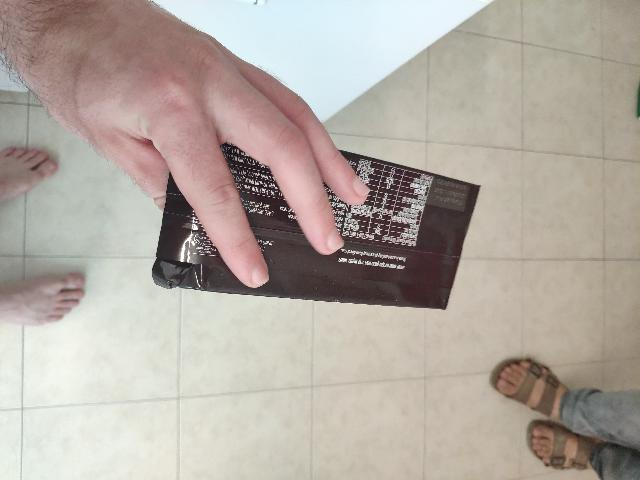chocolate: (265, 147, 476, 480)
